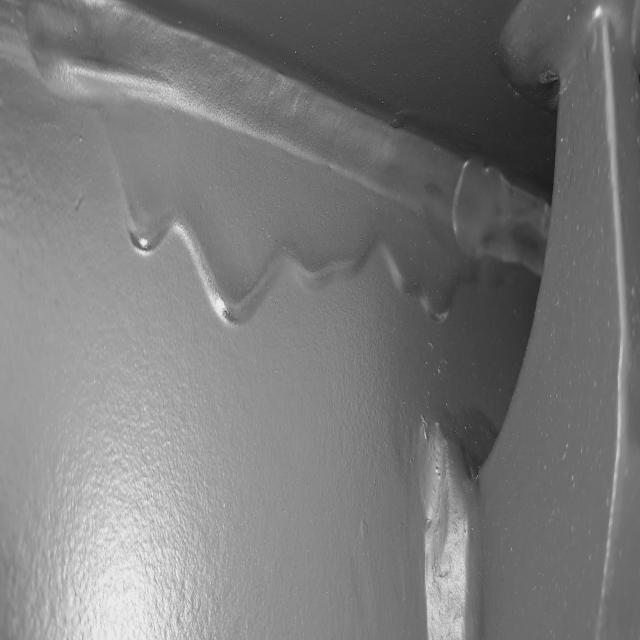paint drips: (18, 6, 485, 341)
